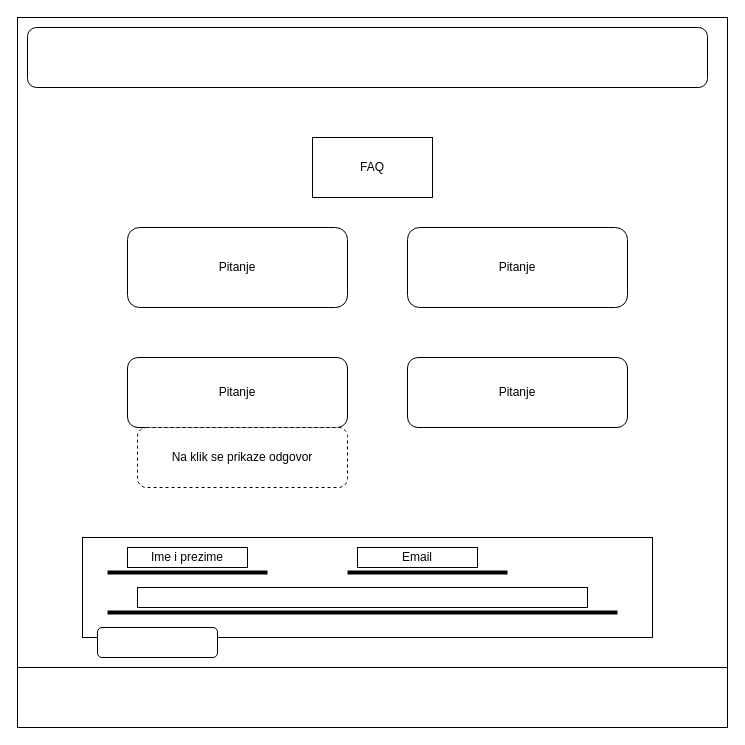
Image size: 745x745. Some labels were removed from this diagram. Here are the shapes that lost their labels. From the top down, the centre of each, then its label:
the point at 367,57: Nav bar
the point at 362,597: Poruka
the point at 157,642: Pošalji
the point at 372,697: Footer
